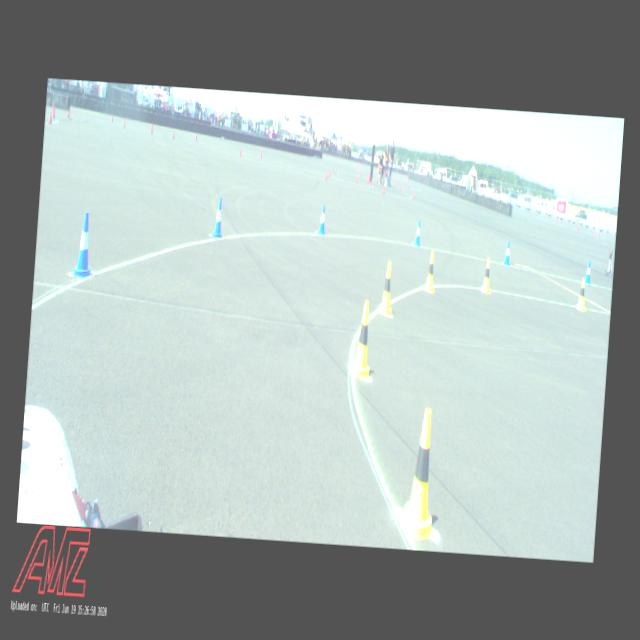blue_cone: (70, 211, 97, 278), (211, 198, 224, 238), (316, 204, 326, 234), (414, 220, 422, 246), (584, 260, 592, 284), (504, 241, 511, 265)
yellow_cone: (397, 407, 442, 540), (352, 300, 374, 379), (378, 261, 396, 316), (423, 250, 437, 292), (481, 256, 492, 292), (576, 277, 587, 310)
